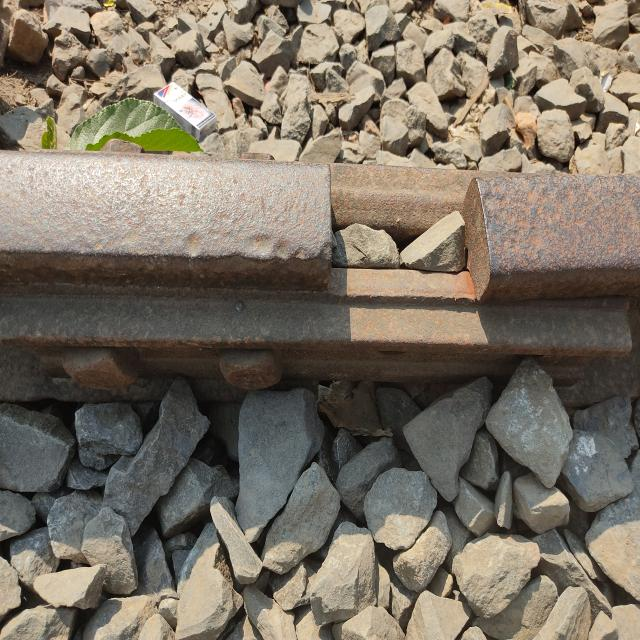Faults: (310, 162, 512, 299)
